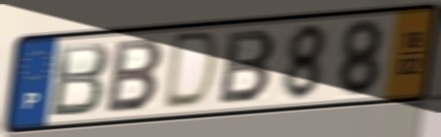8: (334, 15, 387, 100), (280, 21, 330, 104)
B: (47, 39, 113, 121), (103, 37, 167, 116), (216, 28, 279, 107)
D: (159, 28, 221, 113)
